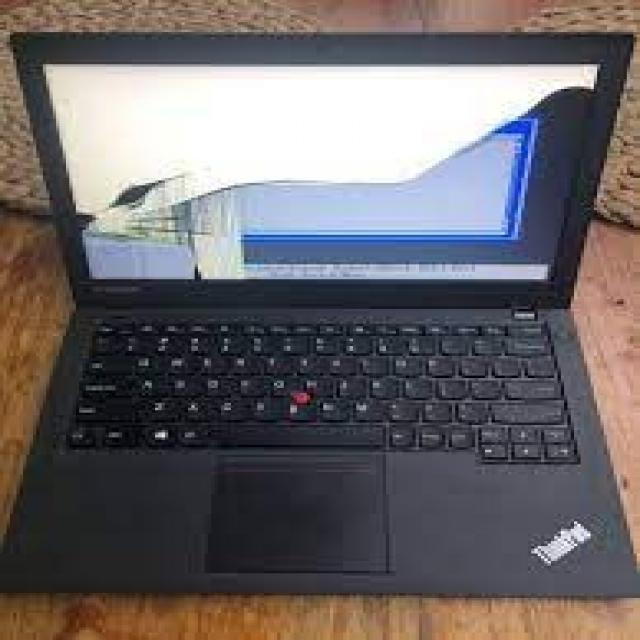Screen cracks: (33, 62, 597, 296)
